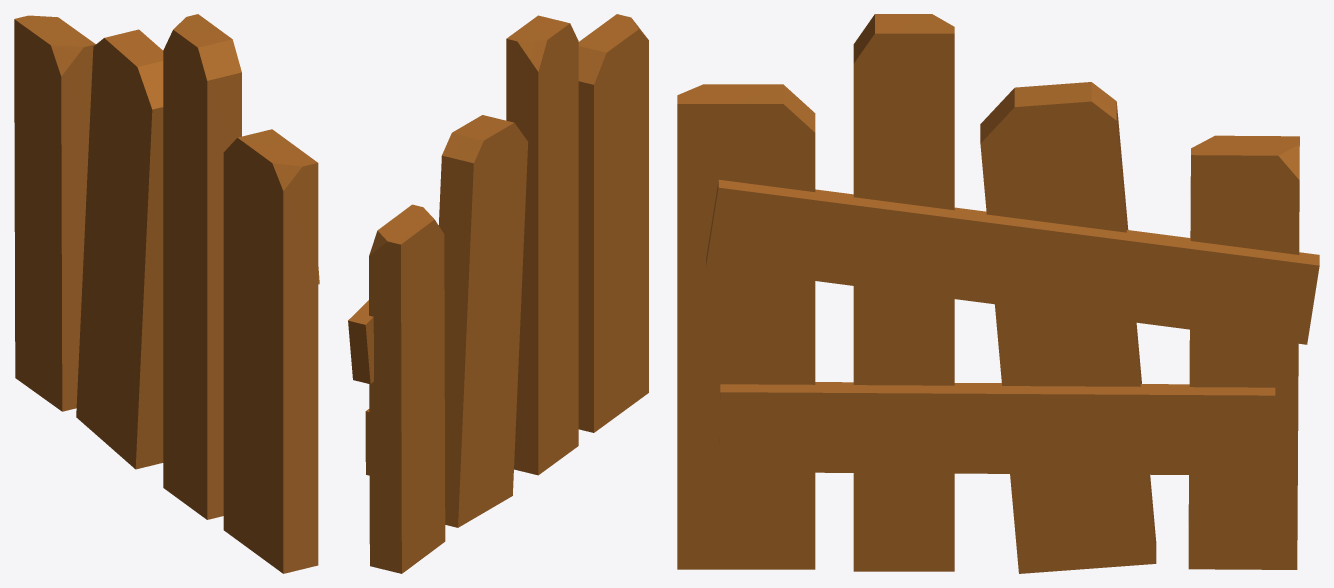
File: fence.fbx
3 views of the same model, side by side, from view 1: azimuth 30°, elevation 25°; view 2: azimuth 150°, elevation 25°; view 3: azimuth 270°, elevation 25° (orthographic). The views are drawn at different scales.
Parts seen in each view (by area): view 1: fence; view 2: fence; view 3: fence.
Boxes of the visible parts, bbox=[...] form: fence: bbox=[14, 14, 319, 573]; fence: bbox=[348, 14, 648, 573]; fence: bbox=[677, 14, 1319, 573].
Bounding box in the file's own units: 25.56 × 234 × 252.
